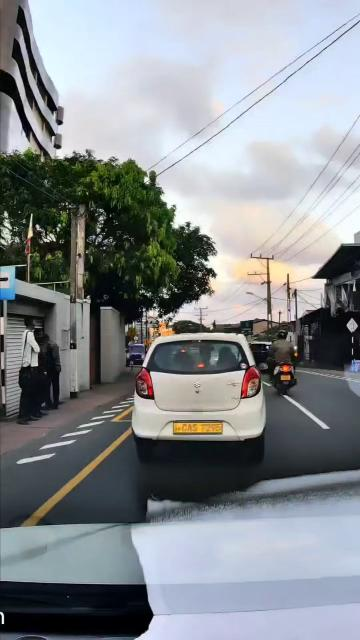number plate: (165, 420, 231, 435)
